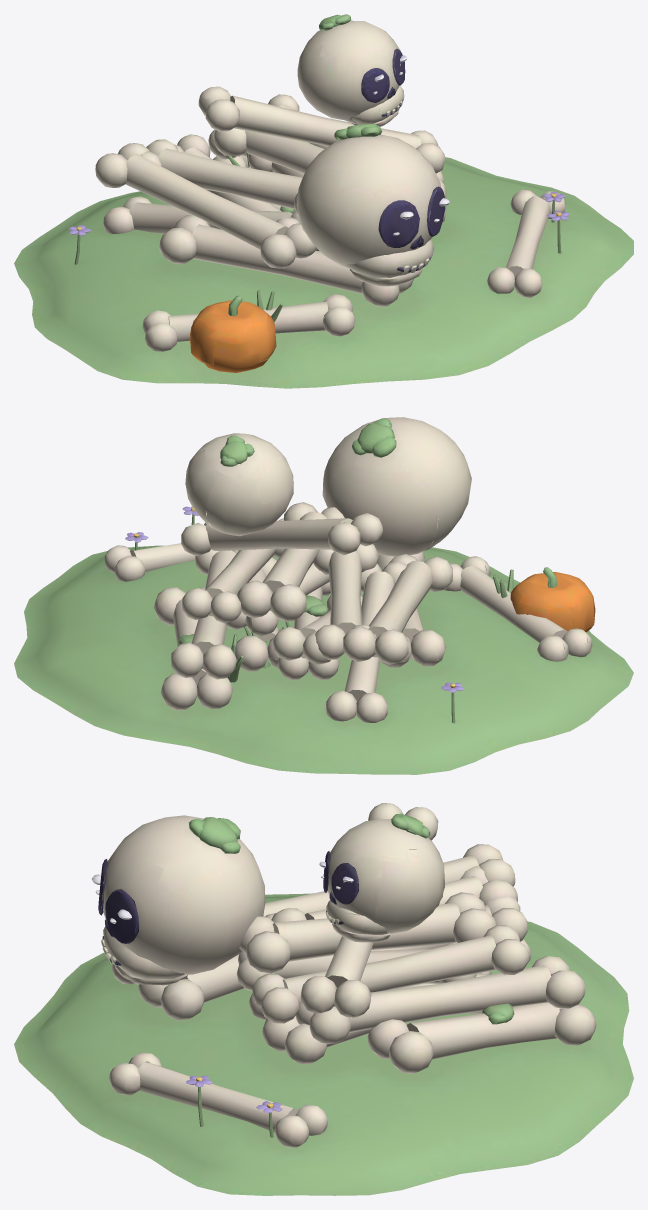
File: huesos.glb
3 views of the same model, one above another, from view 1: azimuth 30°, elevation 25°; view 2: azimuth 150°, elevation 25°; view 3: azimuth 270°, elevation 25° (orthographic). The views are drawn at different scales.
Parts seen in each view (by area): view 1: bone-pile_body; view 2: bone-pile_body; view 3: bone-pile_body.
Part boxes in pixels (box(x1,y1,x2,y2)): bone-pile_body: box(14, 14, 633, 388); bone-pile_body: box(14, 417, 633, 774); bone-pile_body: box(14, 803, 633, 1195).
Size of the model in its own units: 0.71 by 0.2828 by 0.6132.
1 material, 1 textured.
